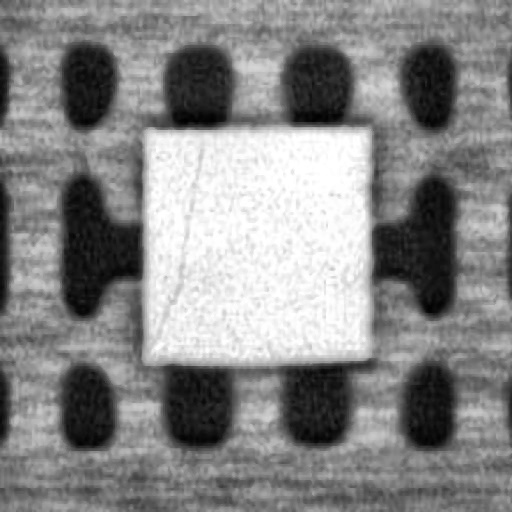DIE_CRACK: (144, 138, 206, 355)
